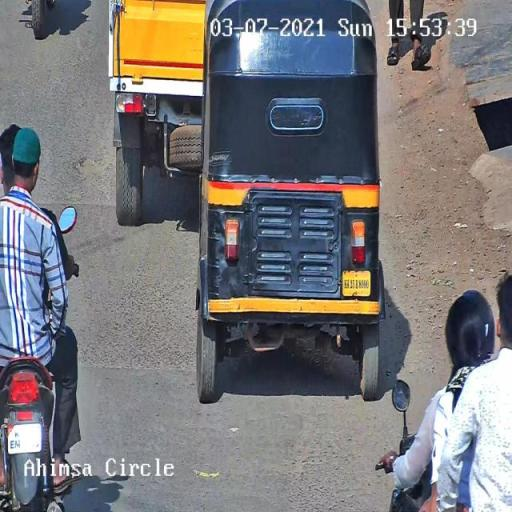tripple riding: (369, 275, 512, 508)
